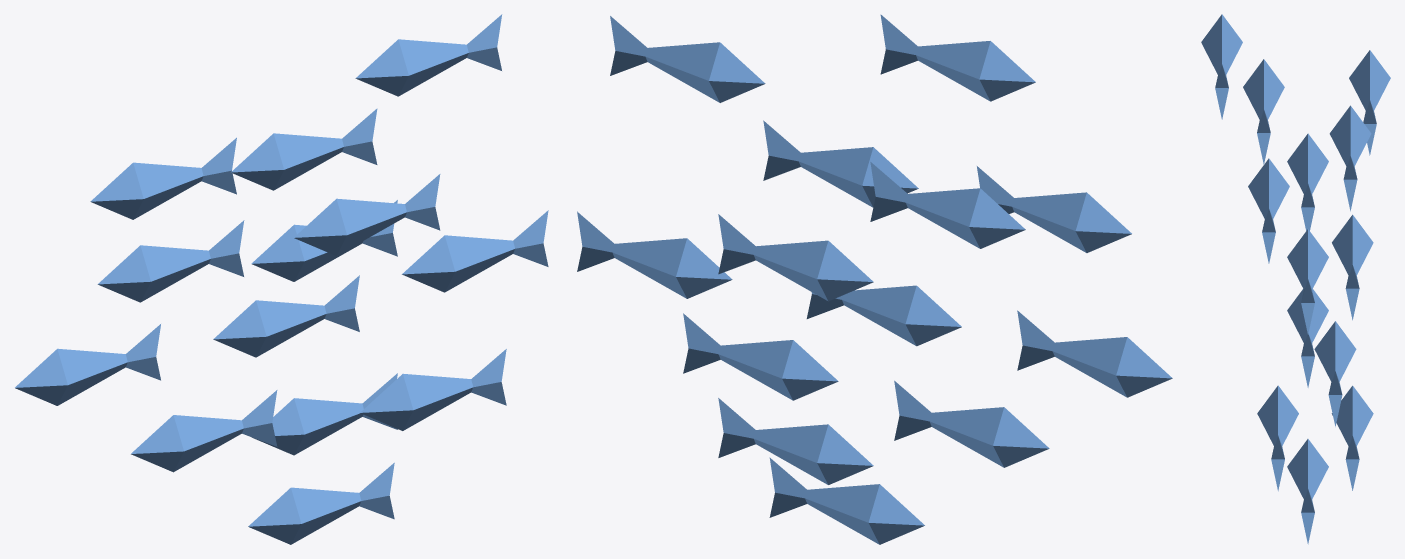
The model's file is fishes-small_01.fbx.
3 renders of one model, left to right at view 1: azimuth 30°, elevation 25°; view 2: azimuth 150°, elevation 25°; view 3: azimuth 270°, elevation 25°, orthographic. The views are drawn at different scales.
Parts seen in each view (by area): view 1: fishes-small_01; view 2: fishes-small_01; view 3: fishes-small_01.
Part boxes in pixels (bbox=[...]): fishes-small_01: bbox=[15, 14, 548, 544]; fishes-small_01: bbox=[577, 14, 1172, 544]; fishes-small_01: bbox=[1201, 14, 1390, 544].
Size of the model in its own units: 216 by 172 by 65.68.
